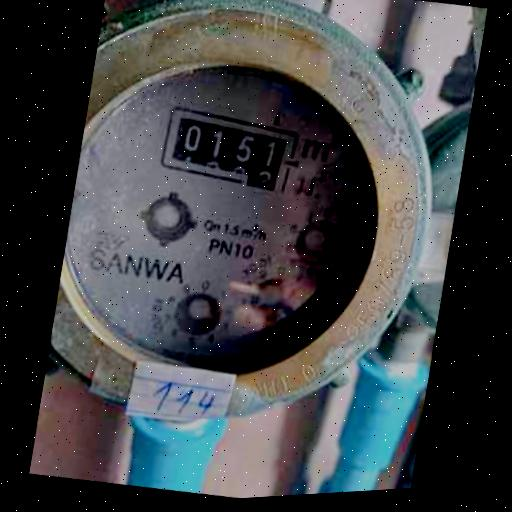0: (169, 114, 209, 167)
1: (244, 130, 289, 193), (197, 121, 236, 173)
5: (224, 126, 260, 177)
border_water_meter_number: (154, 96, 303, 202)
